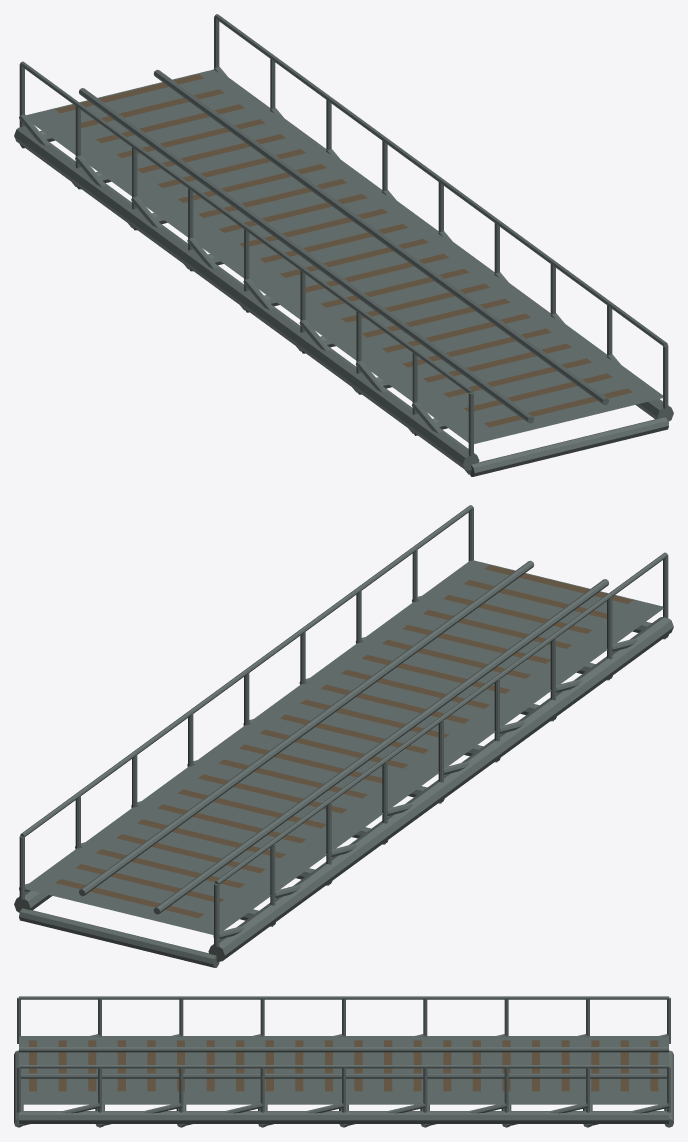
Rendered from XBLD091.glb.
3 renders of one model, top to bottom at view 1: azimuth 30°, elevation 25°; view 2: azimuth 150°, elevation 25°; view 3: azimuth 270°, elevation 25°, orthographic. The views are drawn at different scales.
Visible parts, largest first — view 1: 철교 중간 경간; view 2: 철교 중간 경간; view 3: 철교 중간 경간.
Part boxes in pixels (left/top/right/bottom): 철교 중간 경간: left=14, top=14, right=673, bottom=476; 철교 중간 경간: left=14, top=505, right=673, bottom=967; 철교 중간 경간: left=14, top=996, right=673, bottom=1127.
Size of the model in its own units: 4.34 by 1.7 by 16.24.
